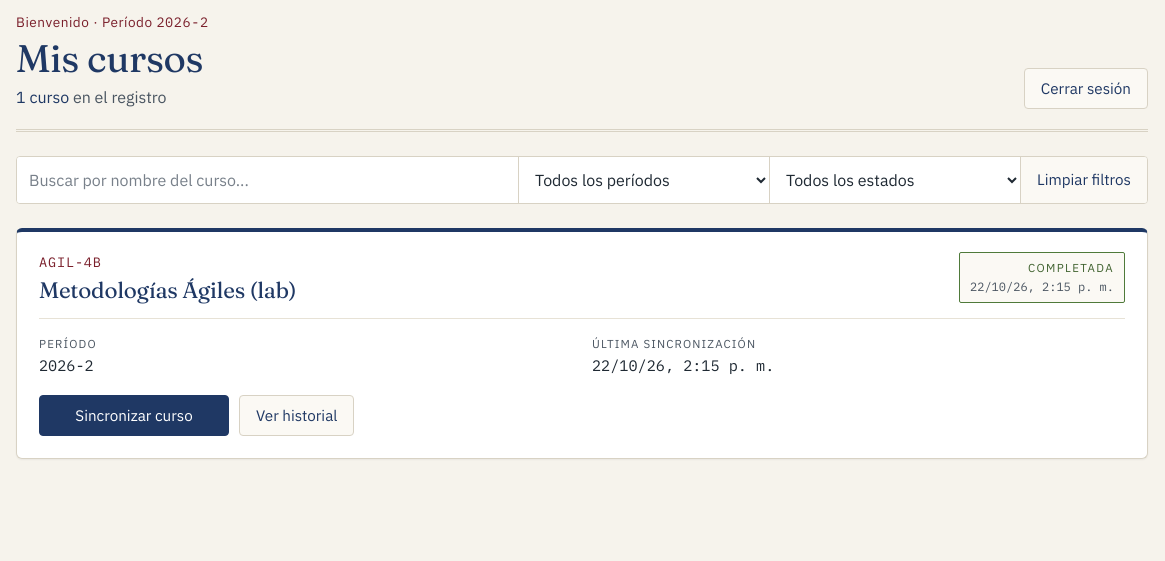
it: Mis cursos › muestra un mensaje específico cuando Moodle no responde
This screenshot has width=1165, height=561.
Expected: the text "AGIL-4B" is shown, [39, 252, 102, 270]
Click the button "Sincronizar curso" at (134, 415), box [39, 395, 229, 436]
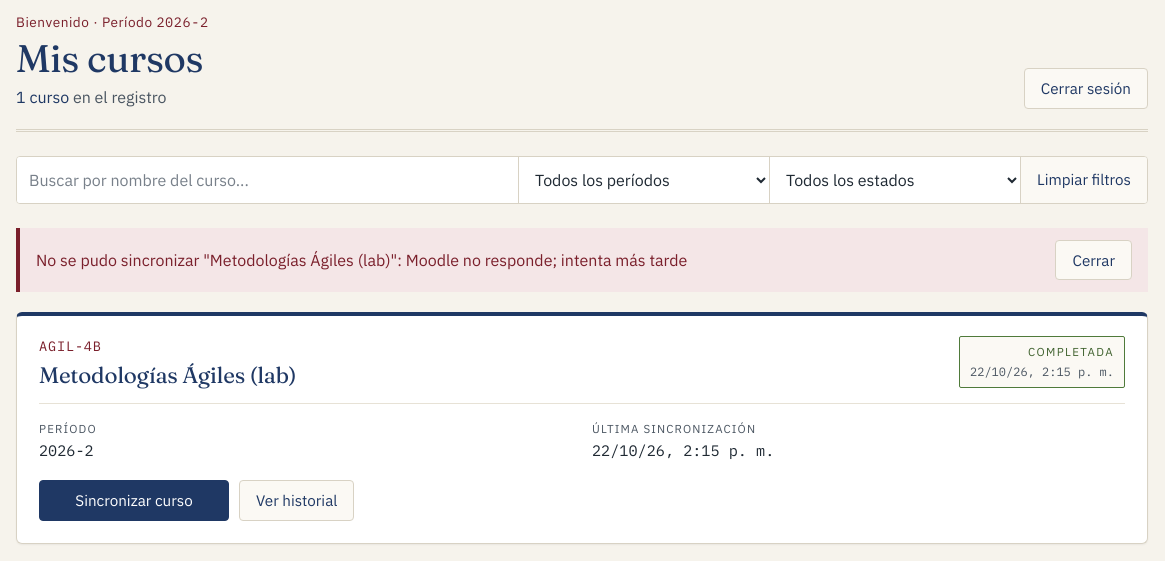
Result: the message shows "Moodle no responde; intenta más tarde" at [36, 250, 687, 270]
